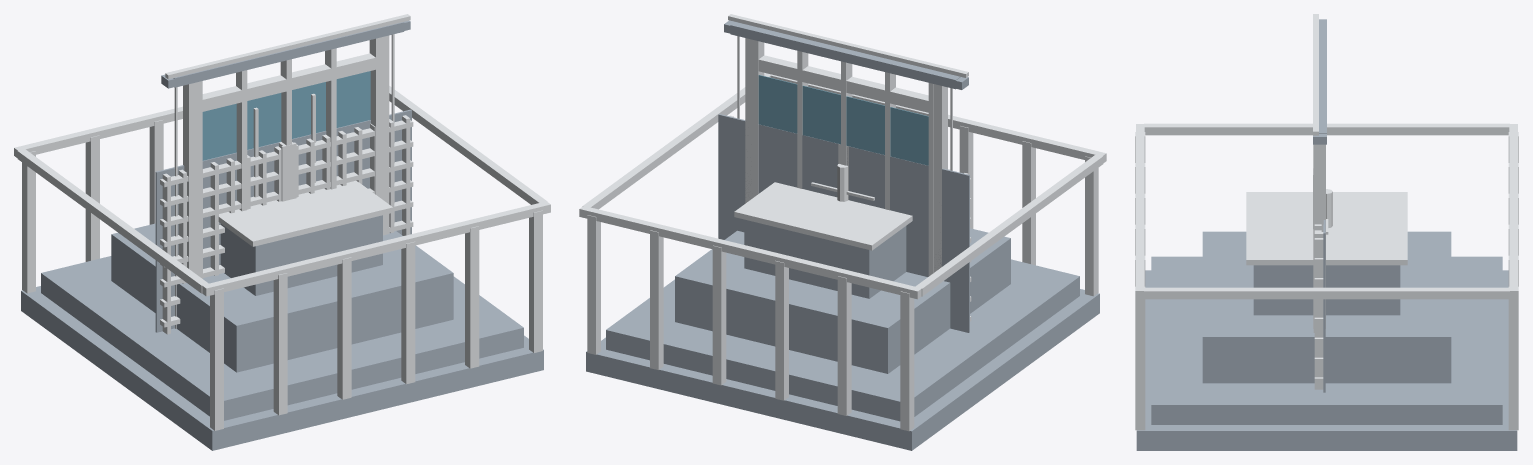
File: tower-kit.glb
3 views of the same model, side by side, from view 1: azimuth 30°, elevation 25°; view 2: azimuth 150°, elevation 25°; view 3: azimuth 270°, elevation 25° (orthographic).
Visible parts, largest first — view 1: crown_stepped_02__t1, crown_stepped_02__t2, crown_flat_fins_01__cap, lobby_finned_03__pane, crown_stepped_02__t3, crown_stepped_02__cap, louvre_slats_01__plate, crown_flat_fins_01__frame_a, lobby_portal_01__pane, crown_flat_fins_01__frame_c, lobby_portal_01__head, lobby_portal_01__post (+32 smaller); view 2: crown_stepped_02__t1, crown_stepped_02__t2, louvre_slats_01__plate, crown_flat_fins_01__cap, crown_stepped_02__cap, lobby_finned_03__pane, crown_stepped_02__t3, crown_flat_fins_01__frame_b, lobby_portal_01__pane, crown_flat_fins_01__frame_c, lobby_portal_01__head, crown_flat_fins_01__frame_c.001 (+21 smaller); view 3: crown_stepped_02__t1, crown_stepped_02__t2, crown_flat_fins_01__cap, crown_stepped_02__cap, crown_stepped_02__t3, crown_flat_fins_01__frame_c.001, crown_flat_fins_01__frame_c, crown_flat_fins_01__frame_b, crown_flat_fins_01__frame_a, crown_flat_fins_01__fin.010, crown_flat_fins_01__fin.011, lobby_portal_01__post.001 (+5 smaller).
Boxes of the visible parts, x1,y1,x2,y2 form: crown_stepped_02__t1: (41,256,523,420); crown_stepped_02__t2: (111,223,453,372); crown_flat_fins_01__cap: (21,286,543,450); lobby_finned_03__pane: (202,71,370,160); crown_stepped_02__t3: (220,215,382,295); crown_stepped_02__cap: (218,180,393,246); louvre_slats_01__plate: (155,109,411,332); crown_flat_fins_01__frame_a: (202,201,550,296); lobby_portal_01__pane: (202,71,369,160); crown_flat_fins_01__frame_c: (17,149,208,293); lobby_portal_01__head: (190,53,375,114); lobby_portal_01__post: (183,82,197,274); crown_stepped_02__t1: (606,259,1079,421); crown_stepped_02__t2: (675,228,1010,373); louvre_slats_01__plate: (718,114,969,332); crown_flat_fins_01__cap: (586,289,1099,450); crown_stepped_02__cap: (734,182,912,250); lobby_finned_03__pane: (758,75,928,165); crown_stepped_02__t3: (744,219,906,298); crown_flat_fins_01__frame_b: (579,206,921,299); lobby_portal_01__pane: (759,75,926,163); crown_flat_fins_01__frame_c: (915,155,1103,296); lobby_portal_01__head: (746,55,938,113); crown_flat_fins_01__frame_c.001: (582,74,770,209); crown_stepped_02__t1: (1151,256,1502,424); crown_stepped_02__t2: (1202,231,1451,383); crown_flat_fins_01__cap: (1136,270,1517,450); crown_stepped_02__cap: (1246,192,1407,265); crown_stepped_02__t3: (1253,265,1400,315); crown_flat_fins_01__frame_c.001: (1144,287,1509,299); crown_flat_fins_01__frame_c: (1144,123,1509,135); crown_flat_fins_01__frame_b: (1509,124,1517,298); crown_flat_fins_01__frame_a: (1136,124,1144,298); crown_flat_fins_01__fin.010: (1508,286,1518,430); crown_flat_fins_01__fin.011: (1135,286,1145,430); lobby_portal_01__post.001: (1313,144,1325,332).
Bounding box in the file's own units: 5.42 × 4.49 × 5.24.
